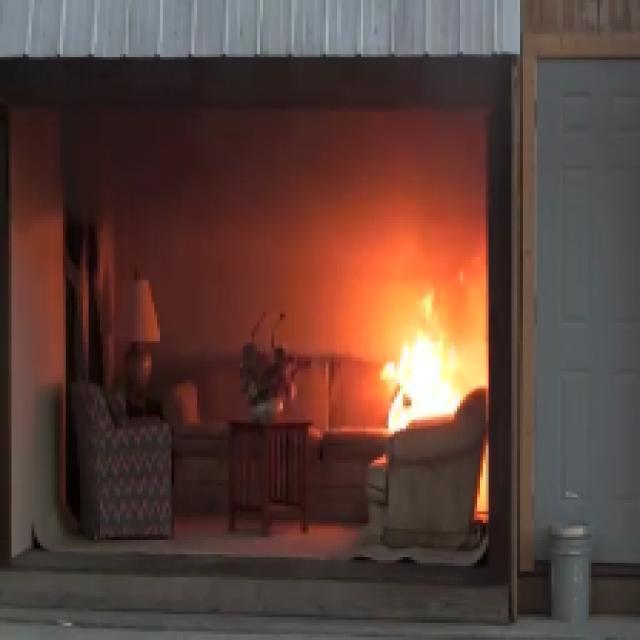Fire: (377, 310, 467, 430)
